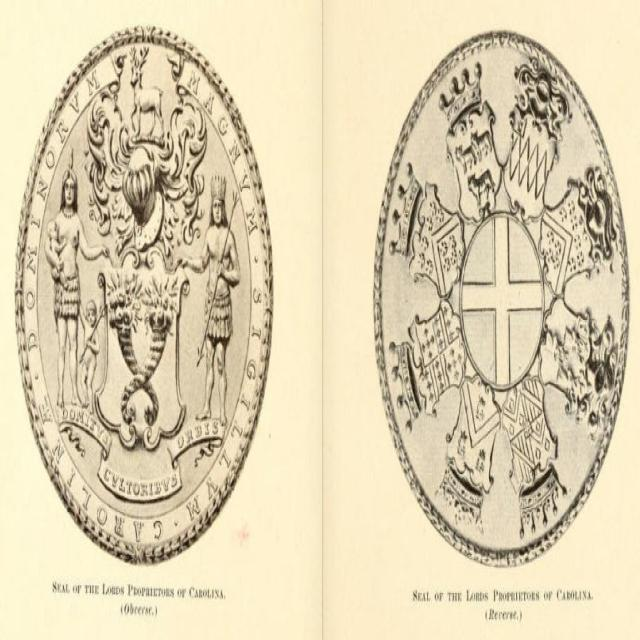Coin: (12, 22, 275, 564), (372, 26, 630, 568)
